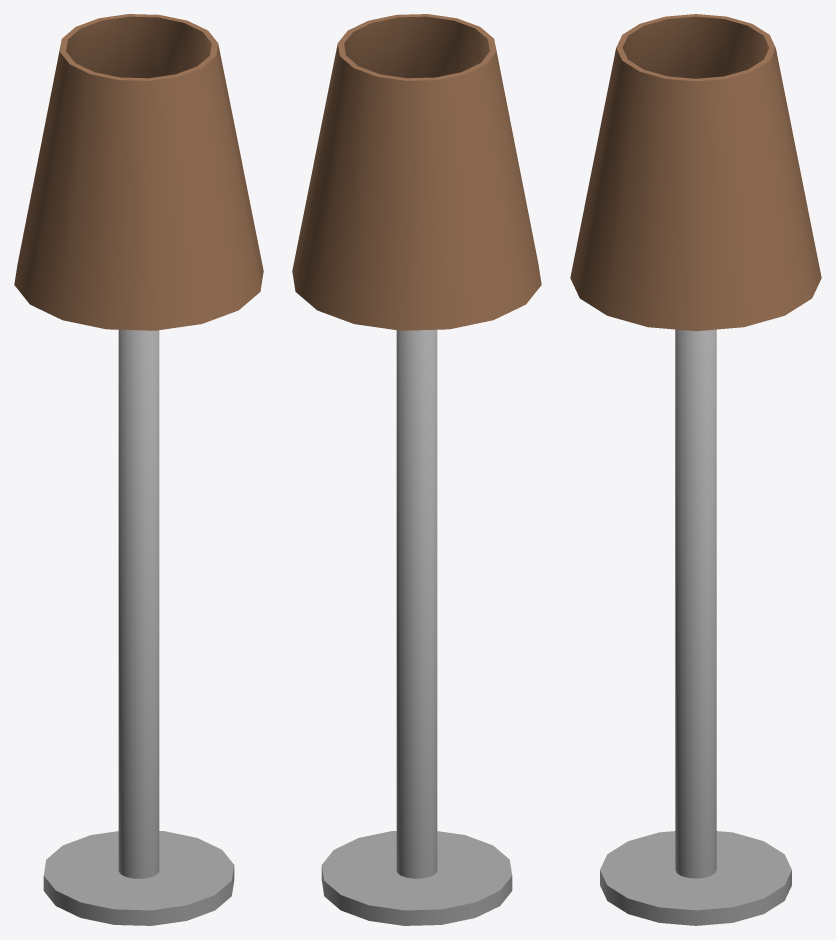
The model's file is Lamp.fbx.
3 renders of one model, left to right at view 1: azimuth 30°, elevation 25°; view 2: azimuth 150°, elevation 25°; view 3: azimuth 270°, elevation 25°, orthographic.
Parts seen in each view (by area): view 1: Lamp; view 2: Lamp; view 3: Lamp.
Part boxes in pixels (box(x1,y1,x2,y2)): Lamp: box(14, 14, 263, 925); Lamp: box(292, 14, 541, 925); Lamp: box(570, 14, 821, 925).
Size of the model in its own units: 107 by 107 by 395.
